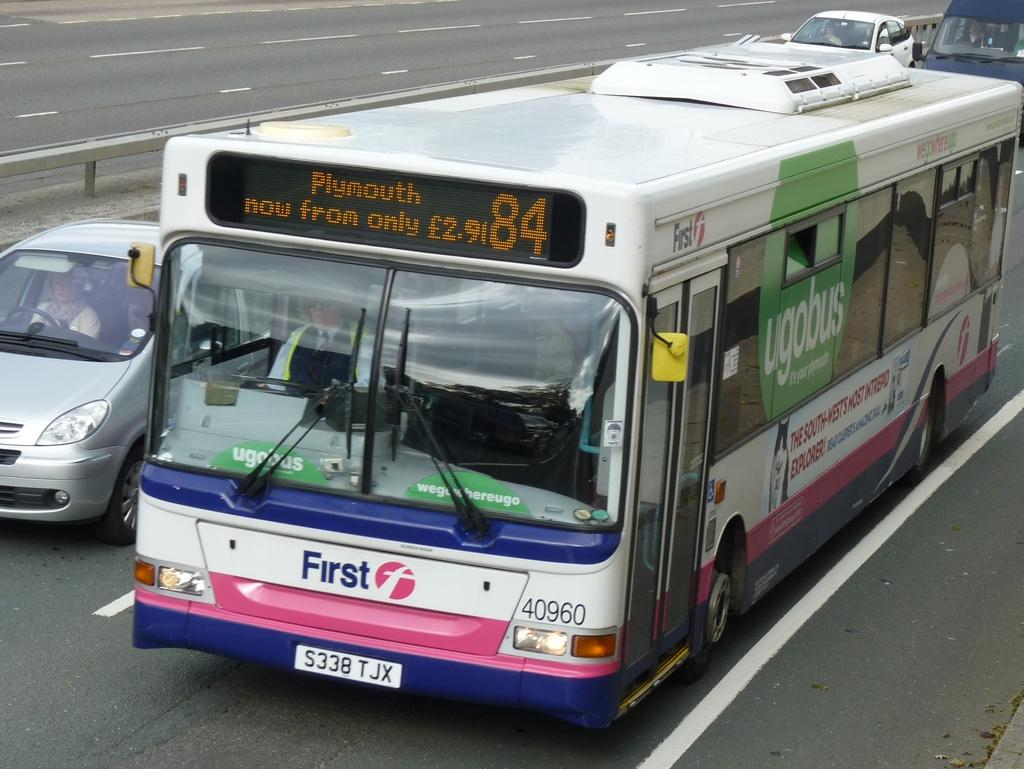vehicle: (128, 43, 1024, 729), (0, 217, 271, 547), (923, 2, 1024, 146), (781, 10, 919, 69)
